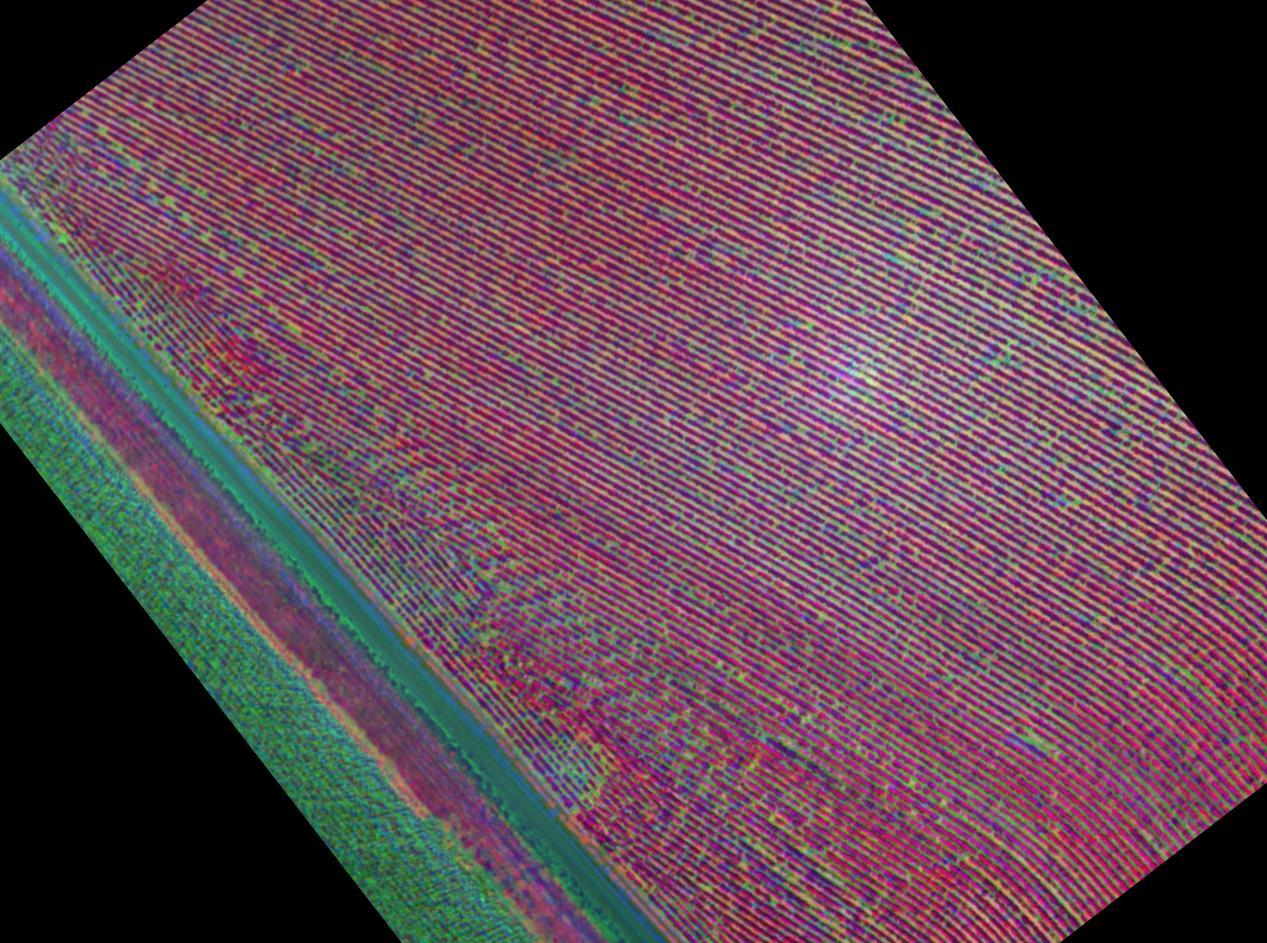dc: (317, 130, 322, 134), (291, 326, 296, 330), (236, 270, 240, 274), (101, 129, 106, 132)
